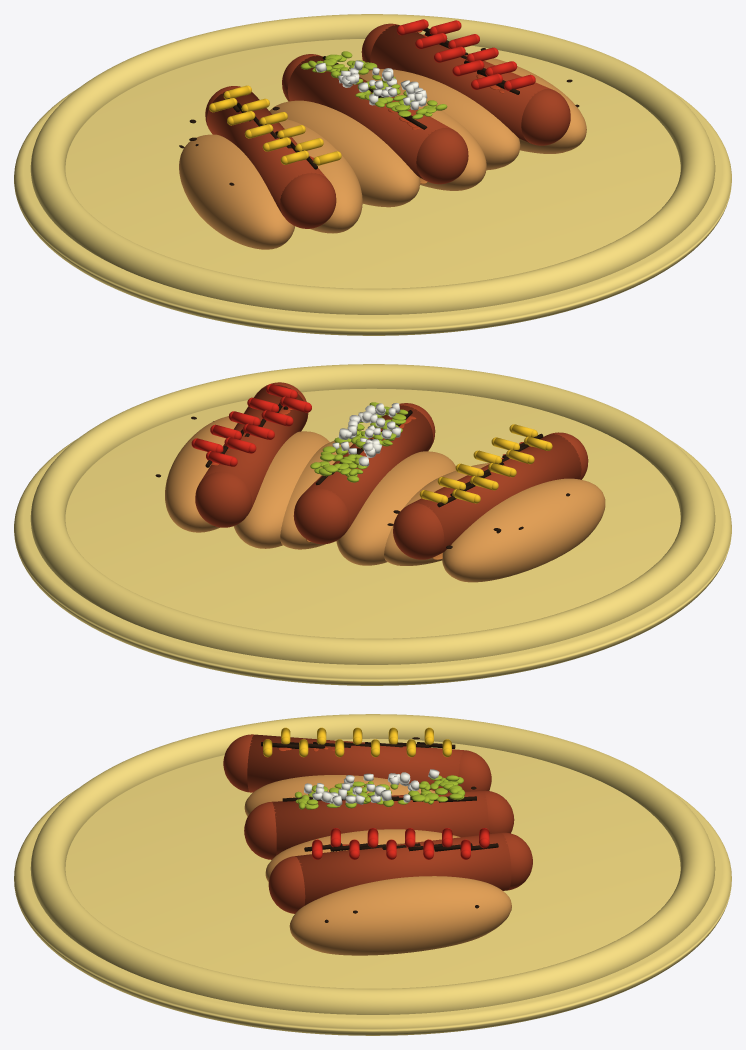
Rendered from Realistic_Hotdogs_AR.glb.
3 renders of one model, top to bottom at view 1: azimuth 30°, elevation 25°; view 2: azimuth 150°, elevation 25°; view 3: azimuth 270°, elevation 25°, orthographic.
Parts seen in each view (by area): view 1: Plate Inner Surface, Raised Plate Rim, White Ceramic Plate, Hotdog_Left_Bun_Left, Hotdog_Middle_Bun_Left, Hotdog_Right_Grilled_Sausage, Hotdog_Middle_Grilled_Sausage, Hotdog_Right_Bun_Left, Hotdog_Left_Grilled_Sausage, Hotdog_Left_Bun_Right, Hotdog_Left_Grilled_Sausage_Rounded_End_A, Hotdog_Middle_Grilled_Sausage_Rounded_End_A (+3 smaller); view 2: Plate Inner Surface, Raised Plate Rim, White Ceramic Plate, Hotdog_Left_Bun_Left, Hotdog_Left_Grilled_Sausage, Hotdog_Middle_Bun_Left, Hotdog_Right_Bun_Left, Hotdog_Middle_Grilled_Sausage, Hotdog_Right_Bun_Right, Hotdog_Right_Grilled_Sausage, Hotdog_Right_Grilled_Sausage_Rounded_End_B, Hotdog_Middle_Grilled_Sausage_Rounded_End_B (+3 smaller); view 3: Plate Inner Surface, Raised Plate Rim, White Ceramic Plate, Hotdog_Right_Bun_Right, Hotdog_Right_Grilled_Sausage, Hotdog_Middle_Grilled_Sausage, Hotdog_Left_Grilled_Sausage, Hotdog_Left_Bun_Right, Hotdog_Middle_Bun_Right, Hotdog_Right_Grilled_Sausage_Rounded_End_A, Hotdog_Middle_Grilled_Sausage_Rounded_End_A, Hotdog_Left_Grilled_Sausage_Rounded_End_A (+3 smaller).
Part boxes in pixels (box(x1,y1,x2,y2)): Plate Inner Surface: box(65, 39, 680, 288); Raised Plate Rim: box(30, 14, 715, 314); White Ceramic Plate: box(14, 89, 731, 335); Hotdog_Left_Bun_Left: box(179, 134, 294, 249); Hotdog_Middle_Bun_Left: box(269, 100, 420, 207); Hotdog_Right_Grilled_Sausage: box(370, 25, 549, 142); Hotdog_Middle_Grilled_Sausage: box(287, 55, 452, 179); Hotdog_Right_Bun_Left: box(359, 69, 520, 170); Hotdog_Left_Grilled_Sausage: box(207, 88, 327, 214); Hotdog_Left_Bun_Right: box(279, 119, 362, 233); Hotdog_Left_Grilled_Sausage_Rounded_End_A: box(280, 172, 336, 228); Hotdog_Middle_Grilled_Sausage_Rounded_End_A: box(416, 127, 468, 184); Plate Inner Surface: box(65, 388, 680, 638); Raised Plate Rim: box(30, 364, 715, 664); White Ceramic Plate: box(14, 439, 731, 685); Hotdog_Left_Bun_Left: box(442, 478, 605, 582); Hotdog_Left_Grilled_Sausage: box(411, 434, 581, 555); Hotdog_Middle_Bun_Left: box(336, 451, 455, 565); Hotdog_Right_Bun_Left: box(233, 431, 329, 548); Hotdog_Middle_Grilled_Sausage: box(301, 405, 432, 534); Hotdog_Right_Bun_Right: box(165, 416, 237, 532); Hotdog_Right_Grilled_Sausage: box(200, 385, 307, 510); Hotdog_Right_Grilled_Sausage_Rounded_End_B: box(195, 472, 251, 527); Hotdog_Middle_Grilled_Sausage_Rounded_End_B: box(293, 488, 349, 544); Plate Inner Surface: box(65, 738, 680, 988); Raised Plate Rim: box(30, 714, 715, 1014); White Ceramic Plate: box(14, 789, 731, 1035); Hotdog_Right_Bun_Right: box(289, 876, 511, 955); Hotdog_Right_Grilled_Sausage: box(295, 833, 511, 905); Hotdog_Middle_Grilled_Sausage: box(272, 791, 488, 855); Hotdog_Left_Grilled_Sausage: box(247, 734, 463, 792); Hotdog_Left_Bun_Right: box(244, 775, 435, 816); Hotdog_Middle_Bun_Right: box(265, 829, 460, 882); Hotdog_Right_Grilled_Sausage_Rounded_End_A: box(268, 856, 305, 913); Hotdog_Middle_Grilled_Sausage_Rounded_End_A: box(244, 802, 276, 859); Hotdog_Left_Grilled_Sausage_Rounded_End_A: box(223, 734, 254, 792).
Bounding box in the file's own units: 11.6 × 1.94 × 11.6.
